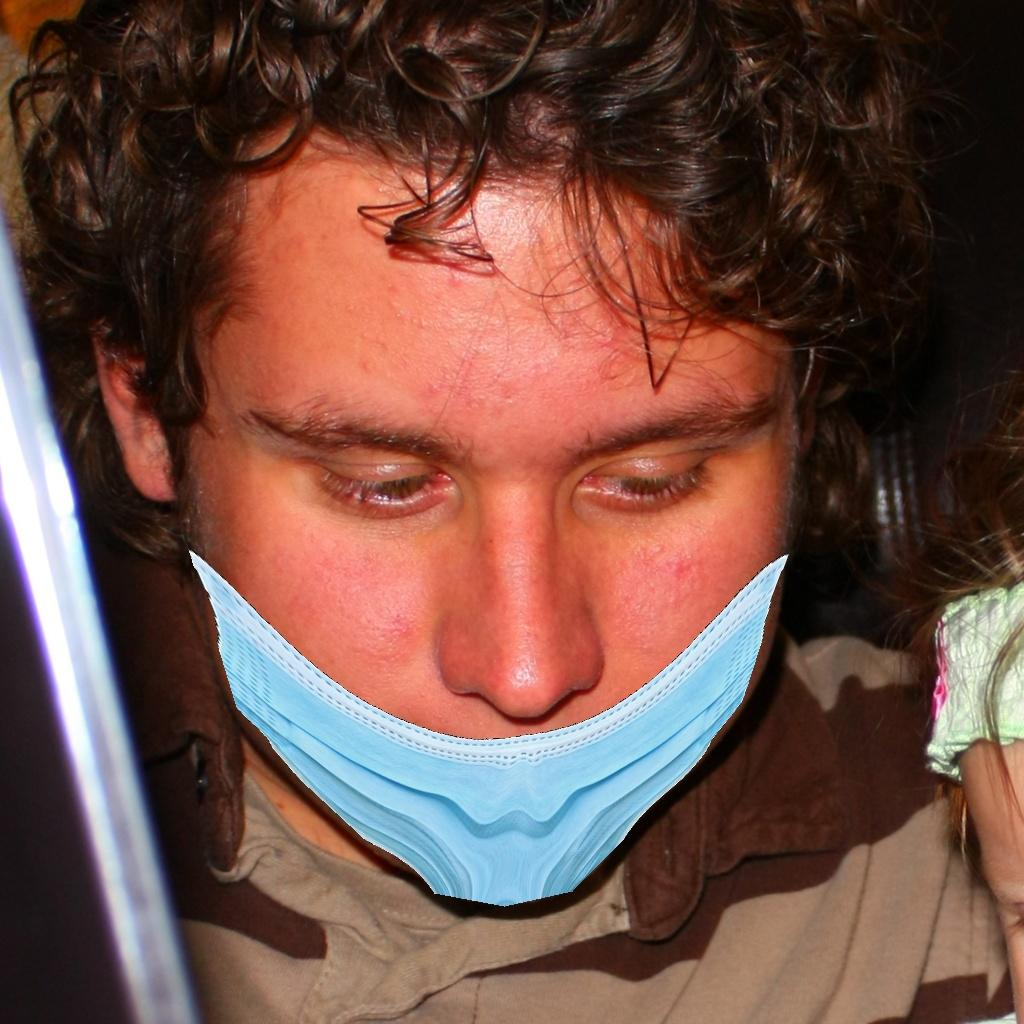Máscara Incorreta: (188, 275, 805, 889)
